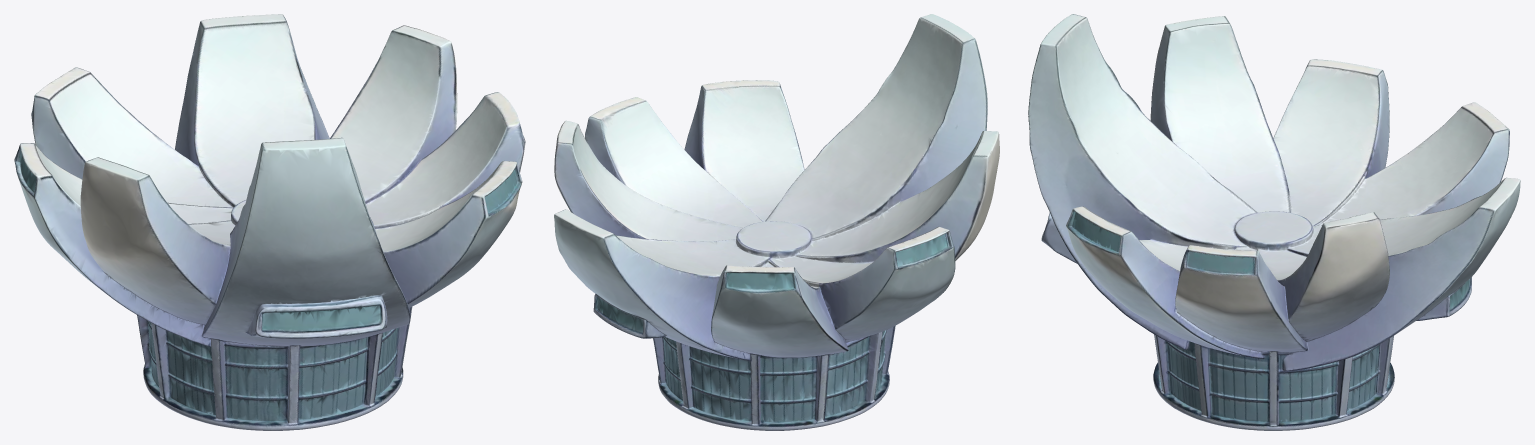
File: artscience.glb
3 renders of one model, left to right at view 1: azimuth 30°, elevation 25°; view 2: azimuth 150°, elevation 25°; view 3: azimuth 270°, elevation 25°, orthographic. The views are drawn at different scales.
Visible parts, largest first — view 1: tripo_node_3851e34b-9b39-4cd0-b55e-7696ff219d76; view 2: tripo_node_3851e34b-9b39-4cd0-b55e-7696ff219d76; view 3: tripo_node_3851e34b-9b39-4cd0-b55e-7696ff219d76.
Part boxes in pixels (box(x1,y1,x2,y2)): tripo_node_3851e34b-9b39-4cd0-b55e-7696ff219d76: box(14, 14, 525, 430); tripo_node_3851e34b-9b39-4cd0-b55e-7696ff219d76: box(554, 14, 999, 430); tripo_node_3851e34b-9b39-4cd0-b55e-7696ff219d76: box(1028, 14, 1520, 430).
Size of the model in its own units: 0.9642 by 0.7032 by 0.9999.
1 material, 1 textured.
